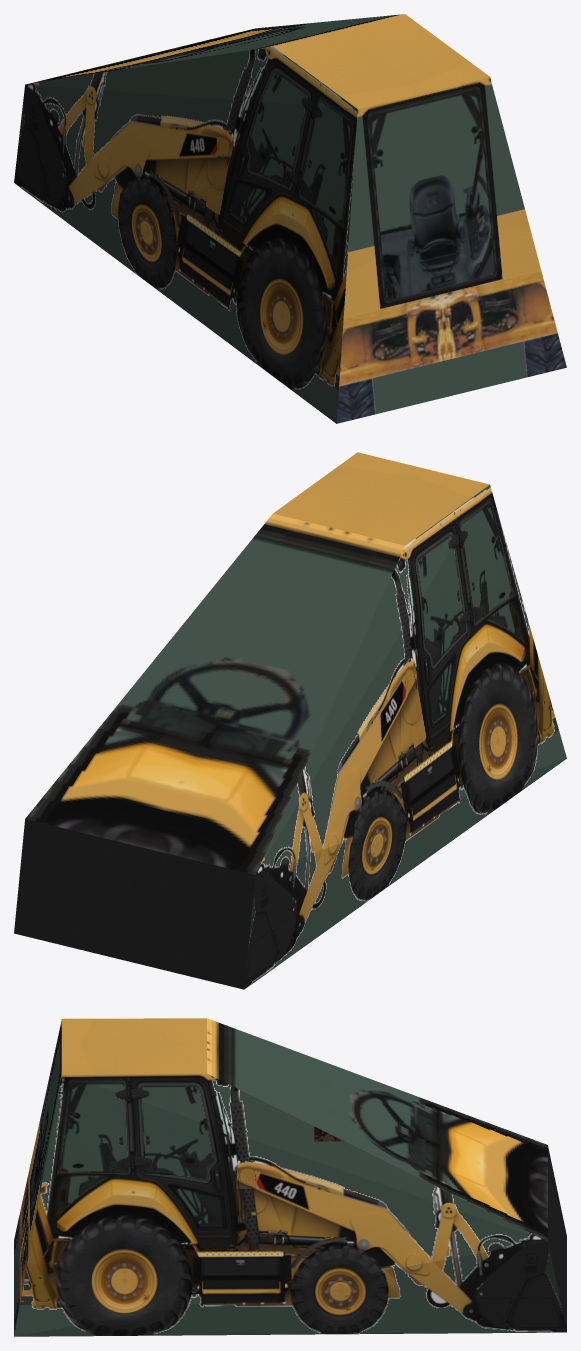
File: tractor-loader-cbj_LOD02.gltf
The picture shows the model from 3 angles, top to bottom: view 1: azimuth 30°, elevation 25°; view 2: azimuth 150°, elevation 25°; view 3: azimuth 270°, elevation 25°; orthographic projection. The views are drawn at different scales.
Parts seen in each view (by area): view 1: Cylinder; view 2: Cylinder; view 3: Cylinder.
Boxes of the visible parts, box(x1,y1,x2,y2) form: Cylinder: box(14, 14, 566, 423); Cylinder: box(14, 452, 566, 989); Cylinder: box(14, 1018, 566, 1336).
Size of the model in its own units: 2.4 by 2.82 by 5.82.
